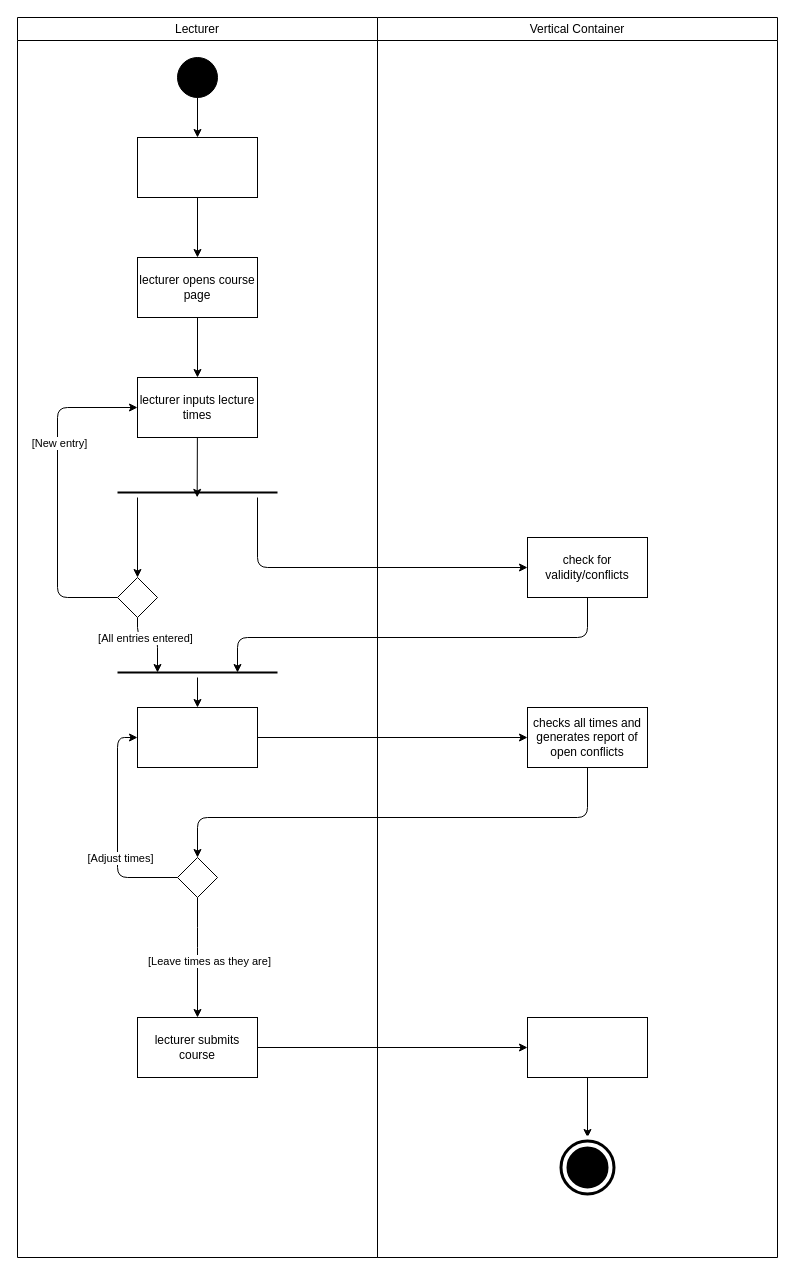
This 795x1275 diagram has some shape labels left out. Each missing label, with the centre of its shape:
"enables course" belongs at point 587,1047.
"lecturer confirms changes" belongs at point 197,737.
"lecturer enters their credentials" belongs at point 197,167.
